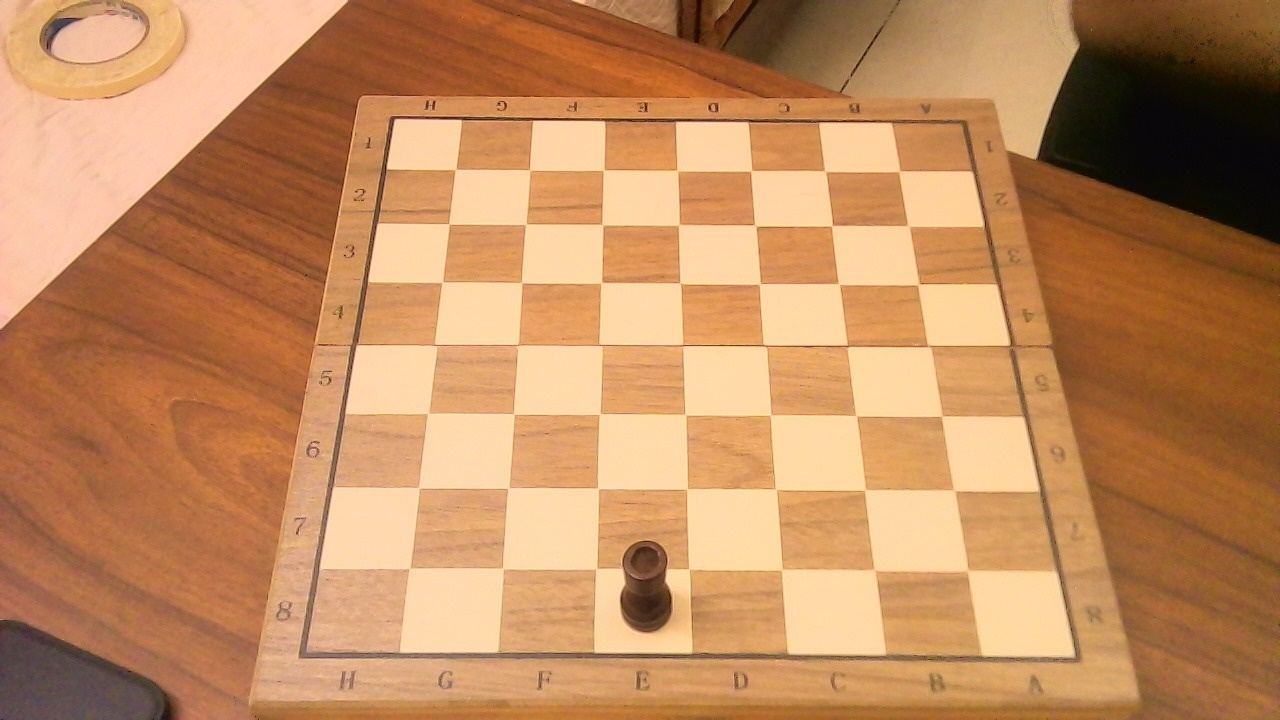r: (607, 528, 685, 638)
